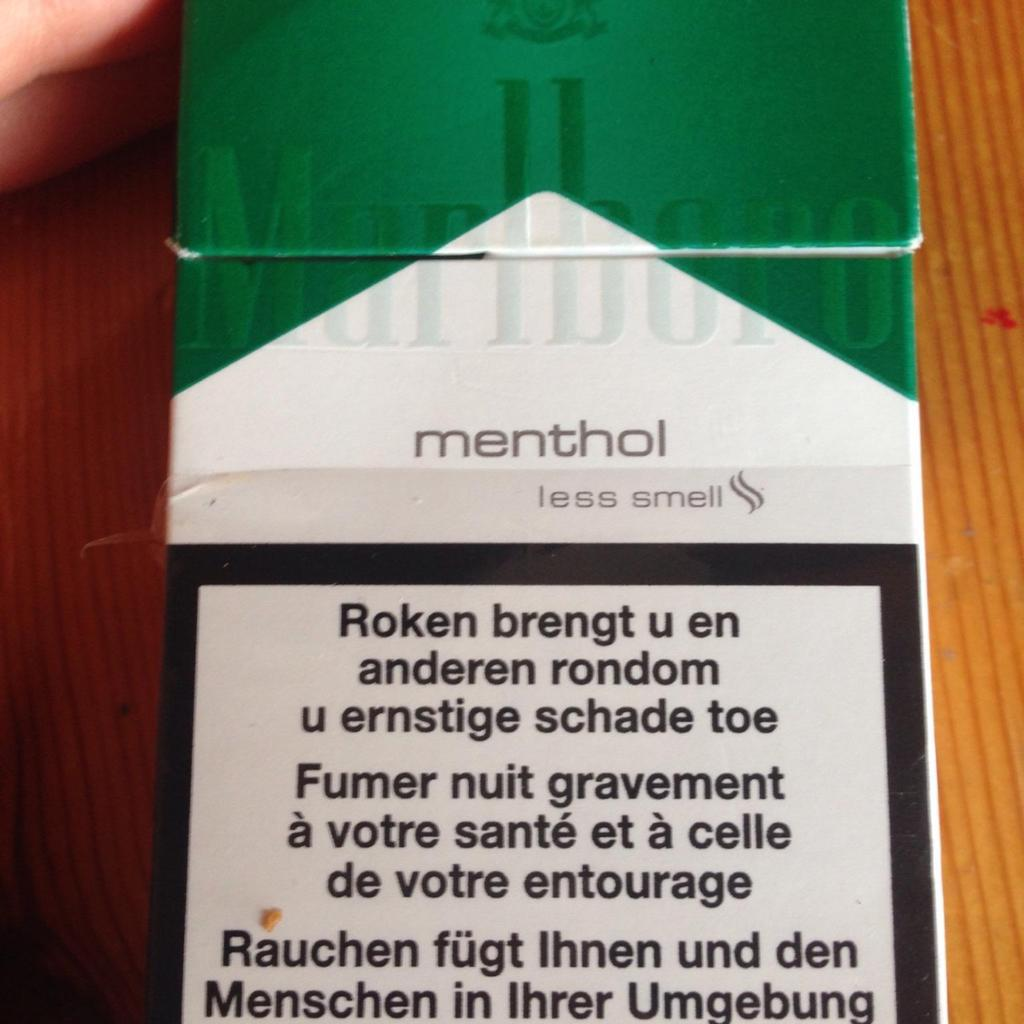marlboro_mentol: (162, 1, 942, 1022)
